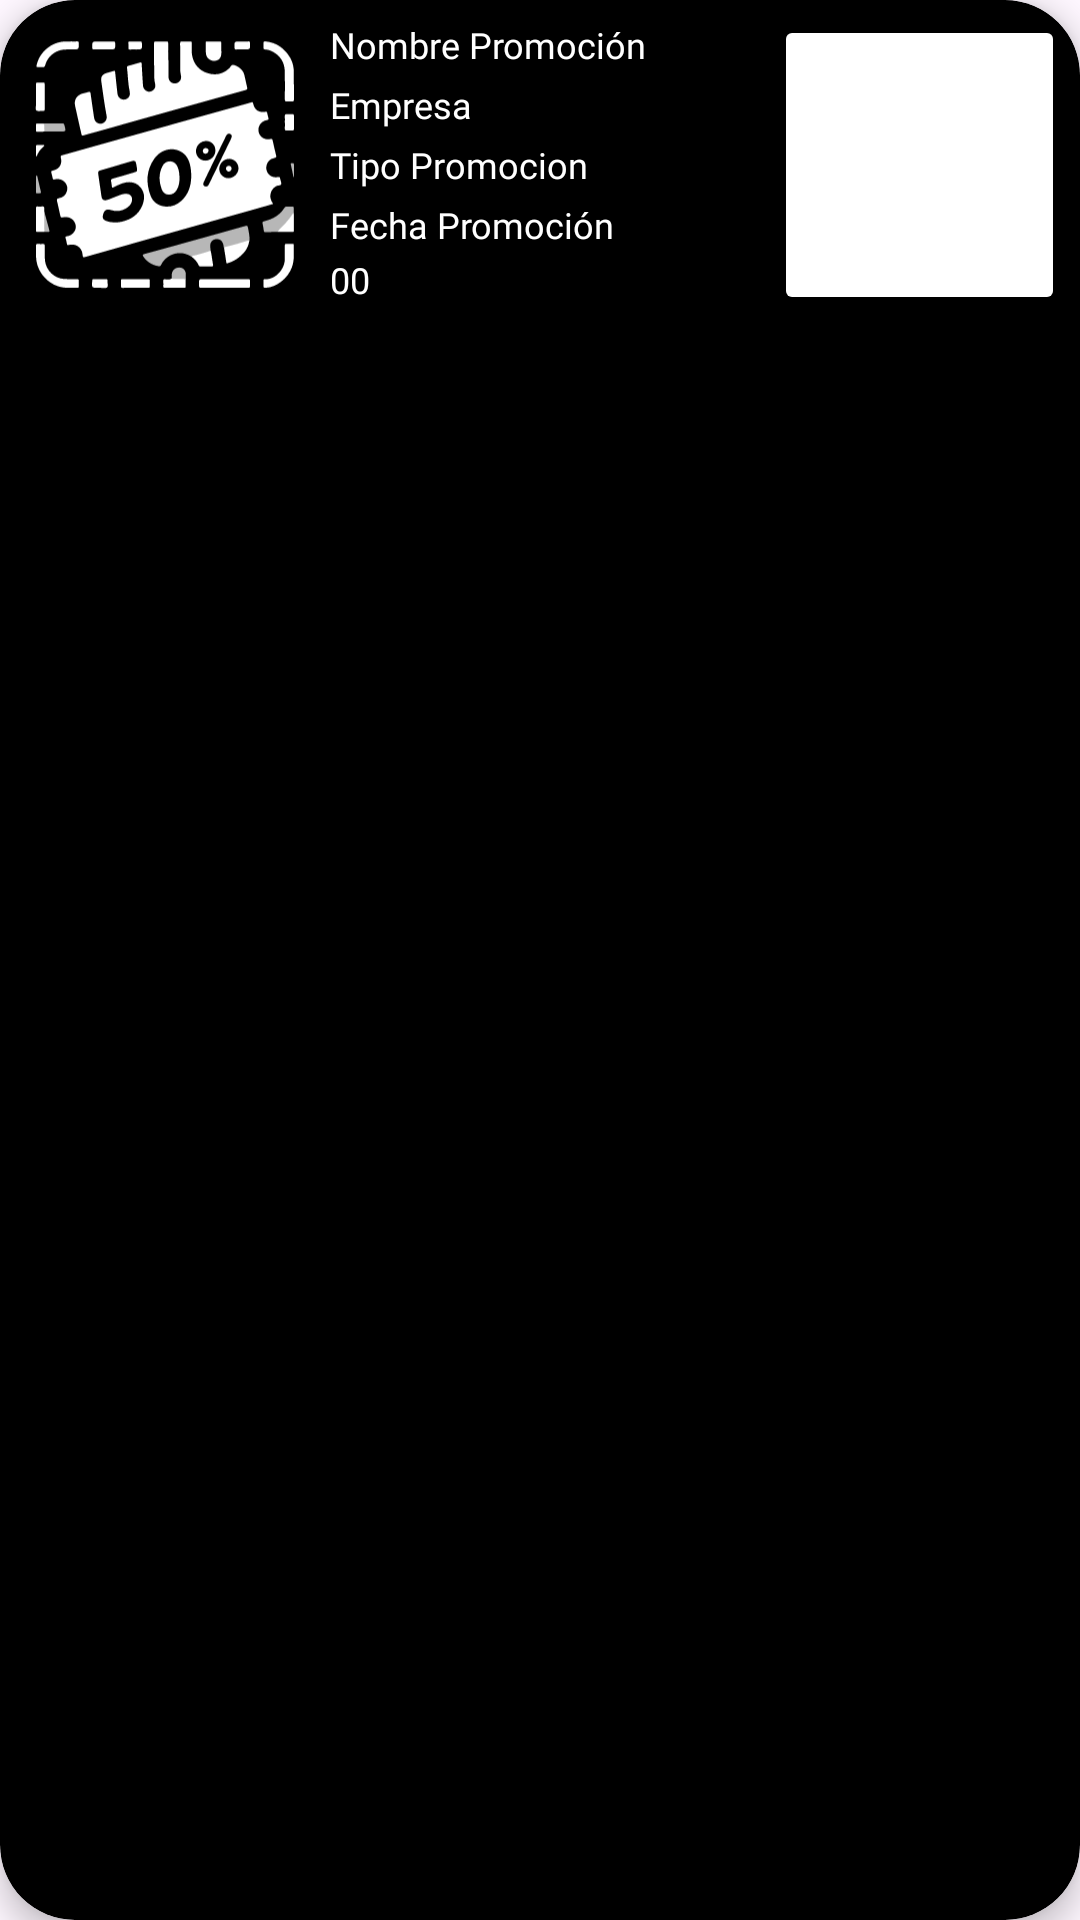

Named icons in this screenshot (1080 x 1920) and their bounding boxes, [left=x1, top=y1, right=x2, bottom=y2]:
cuponsmart: [left=35, top=41, right=294, bottom=289]
